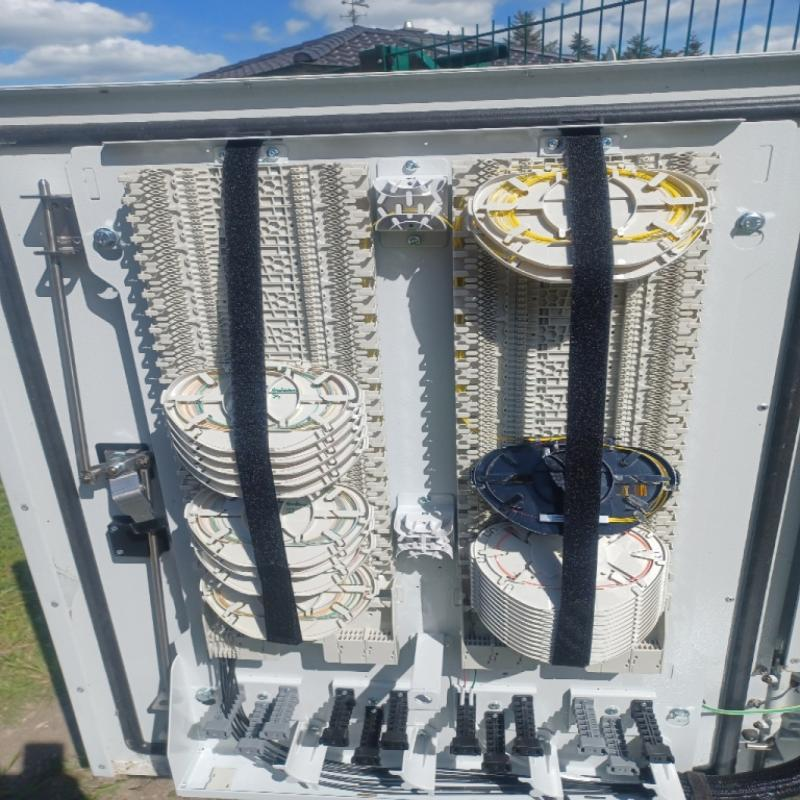NT-Gehause: (0, 58, 800, 793)
Spleiskassetten: (434, 152, 727, 680), (104, 158, 411, 661)
